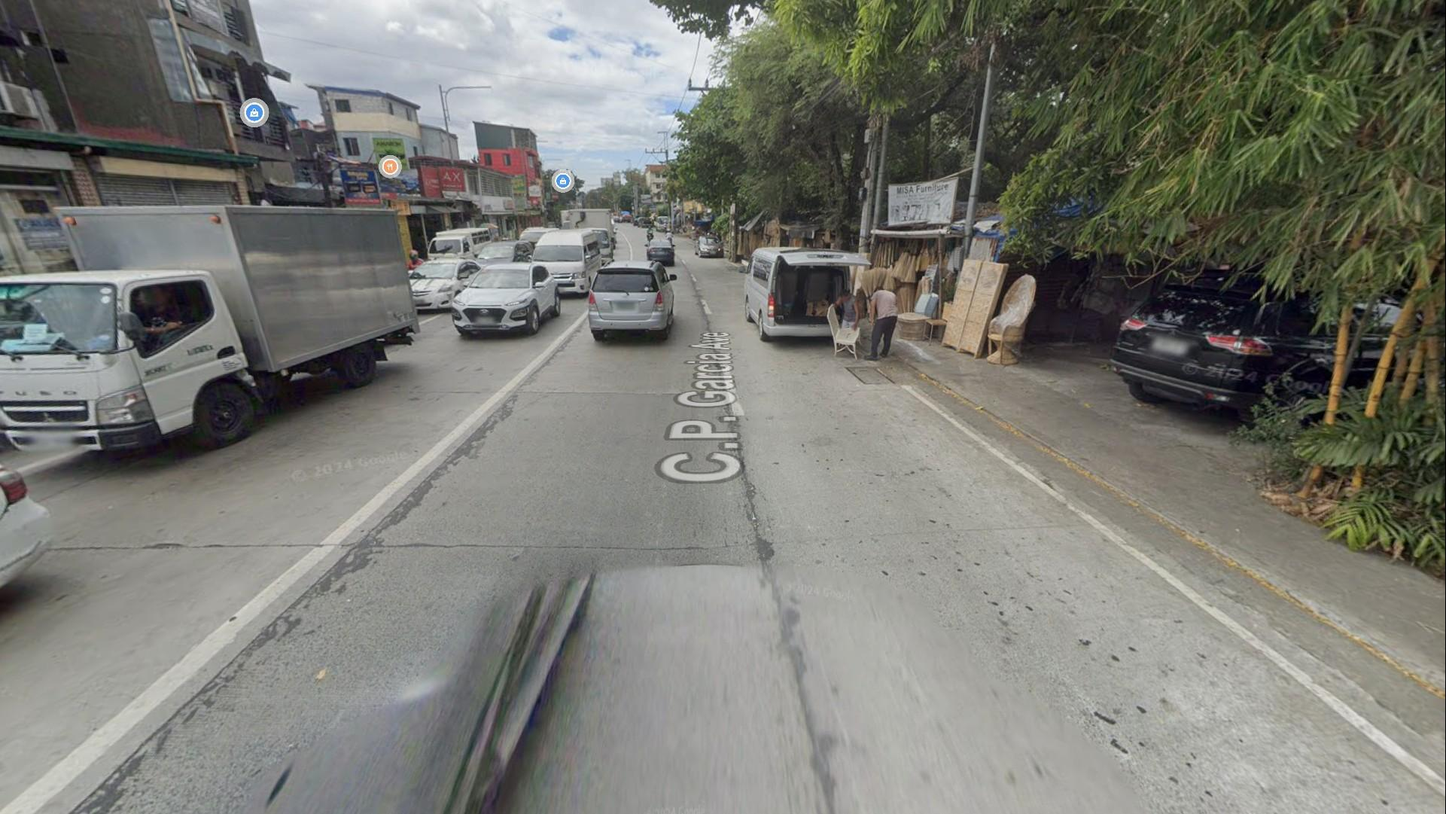pedestrian: (865, 284, 898, 362), (830, 287, 860, 349)
